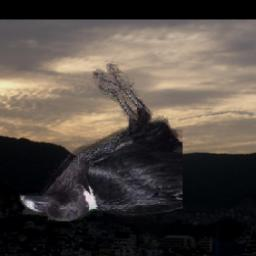Crow: (20, 62, 184, 222)
